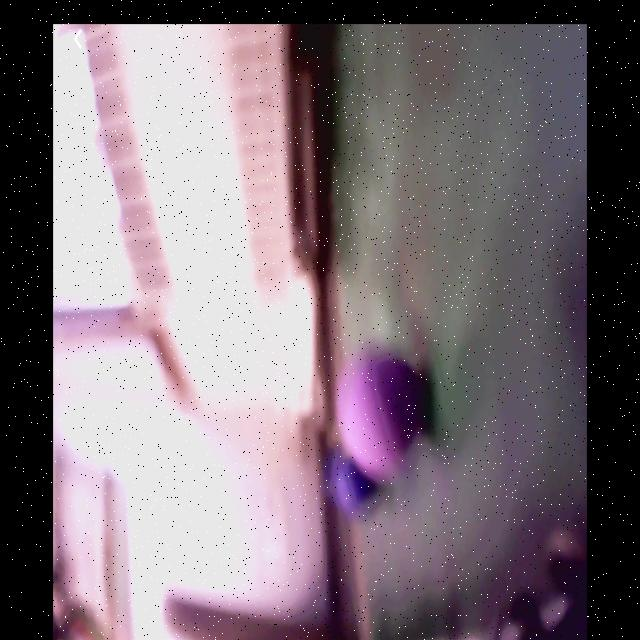ball: (342, 357, 424, 472), (331, 455, 384, 510)
